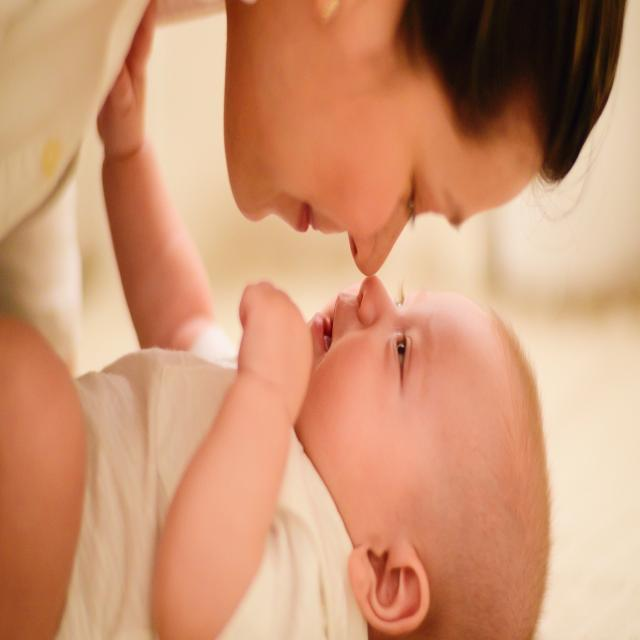non-dog: (1, 277, 556, 640), (1, 0, 632, 280)
